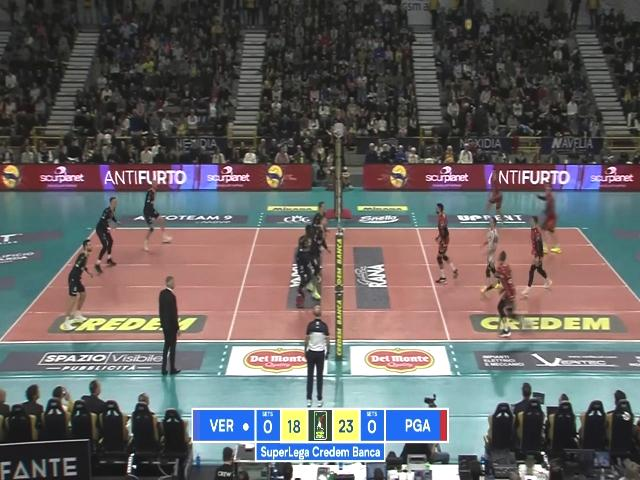volleyball court: (1, 222, 638, 343)
